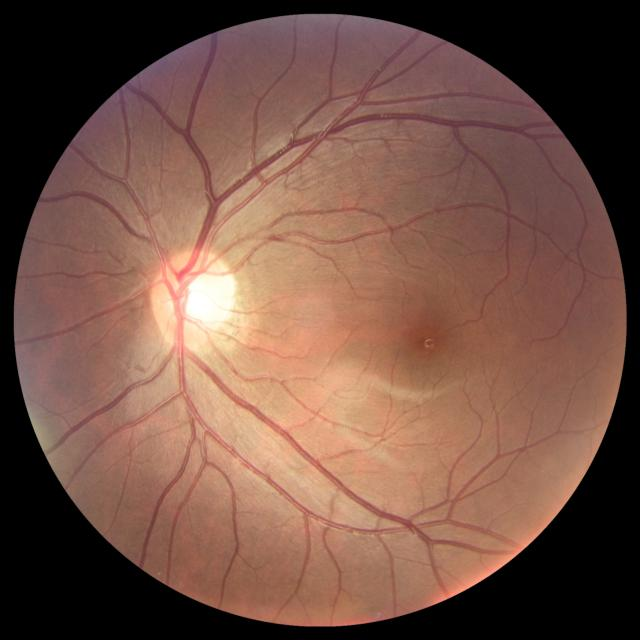OC: (173, 270, 225, 327)
OD: (152, 248, 235, 348)
